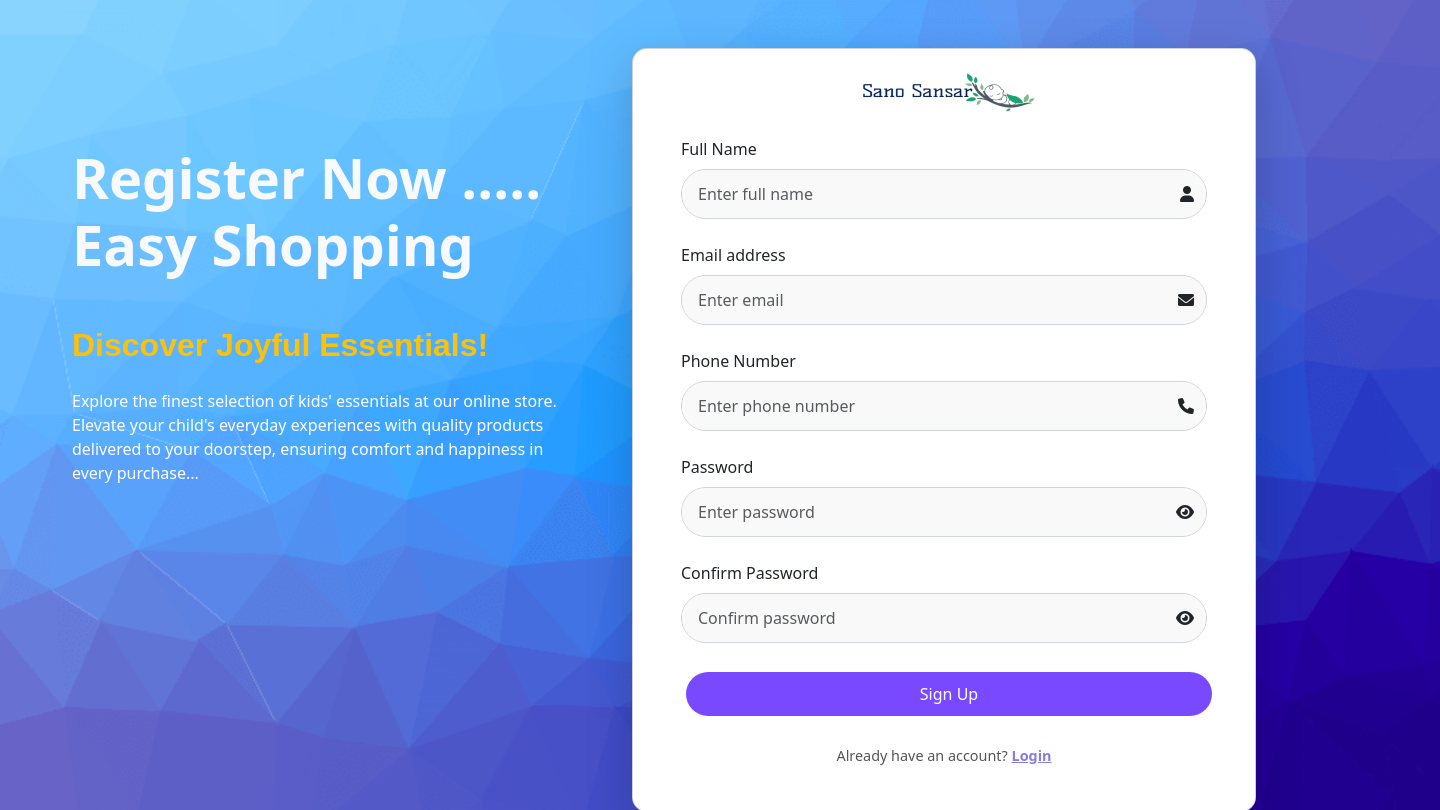
Test: RegisterPage Component Test › should show error when passwords do not match
Type "Test User" into the field with placeholder "Enter full name" at (926, 194), box [682, 170, 1169, 218]
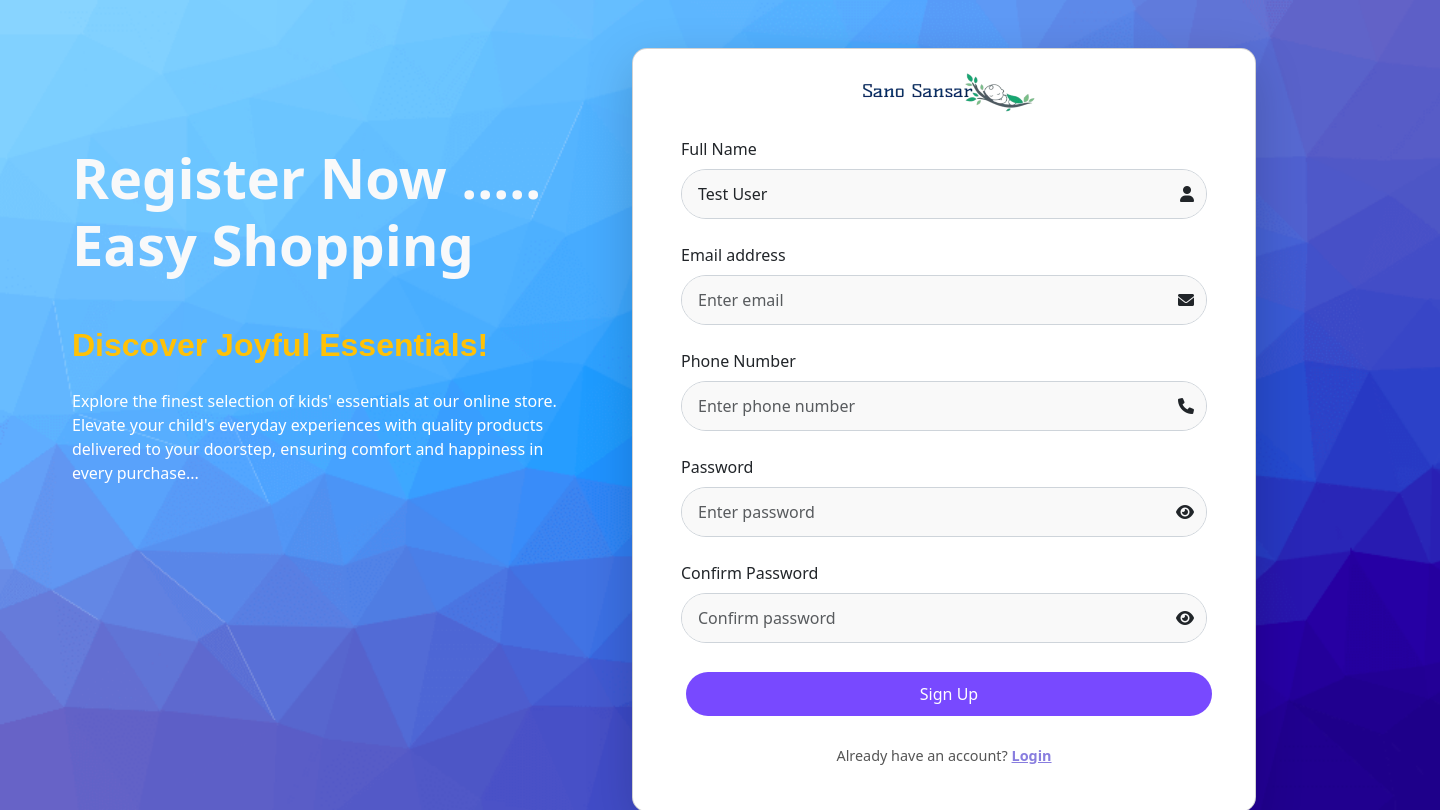
Type "test@gmail.com" into the field with placeholder "Enter email" at (924, 300), box [682, 276, 1167, 324]
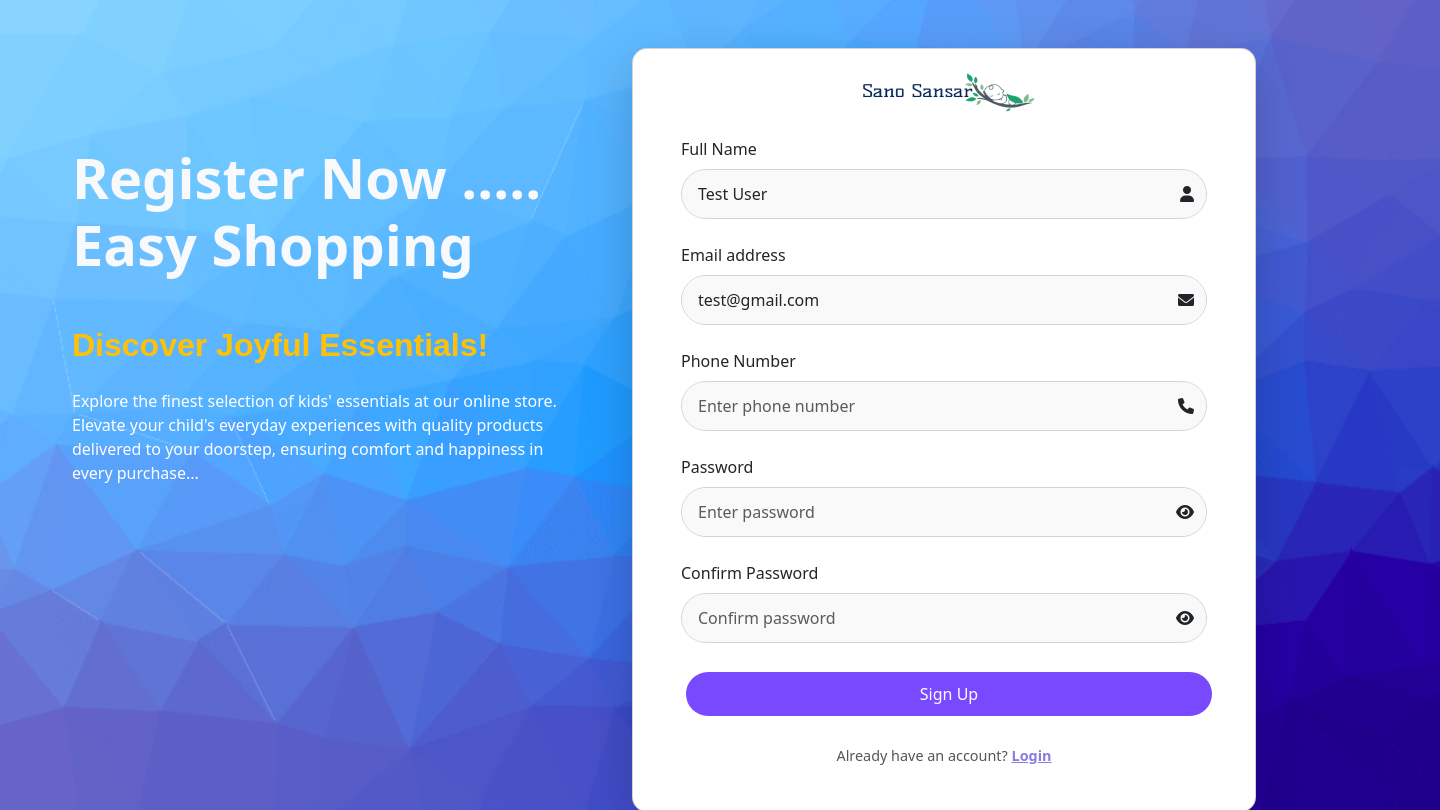
Type "1234567890" into the field with placeholder "Enter phone number" at (924, 406), box [682, 382, 1167, 430]
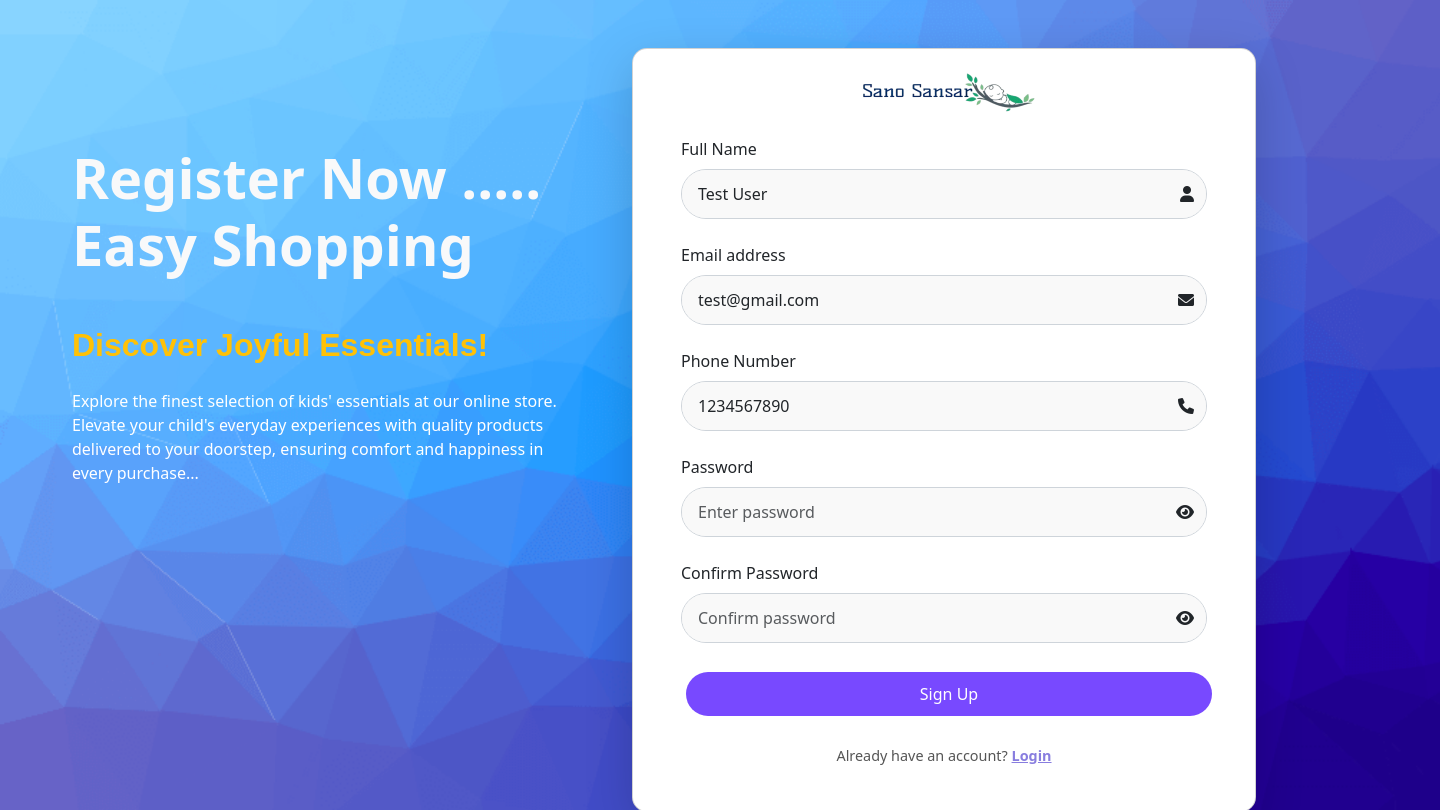
Type "Test@123" into the password field with placeholder "Enter password" at (924, 512), box [682, 488, 1165, 536]
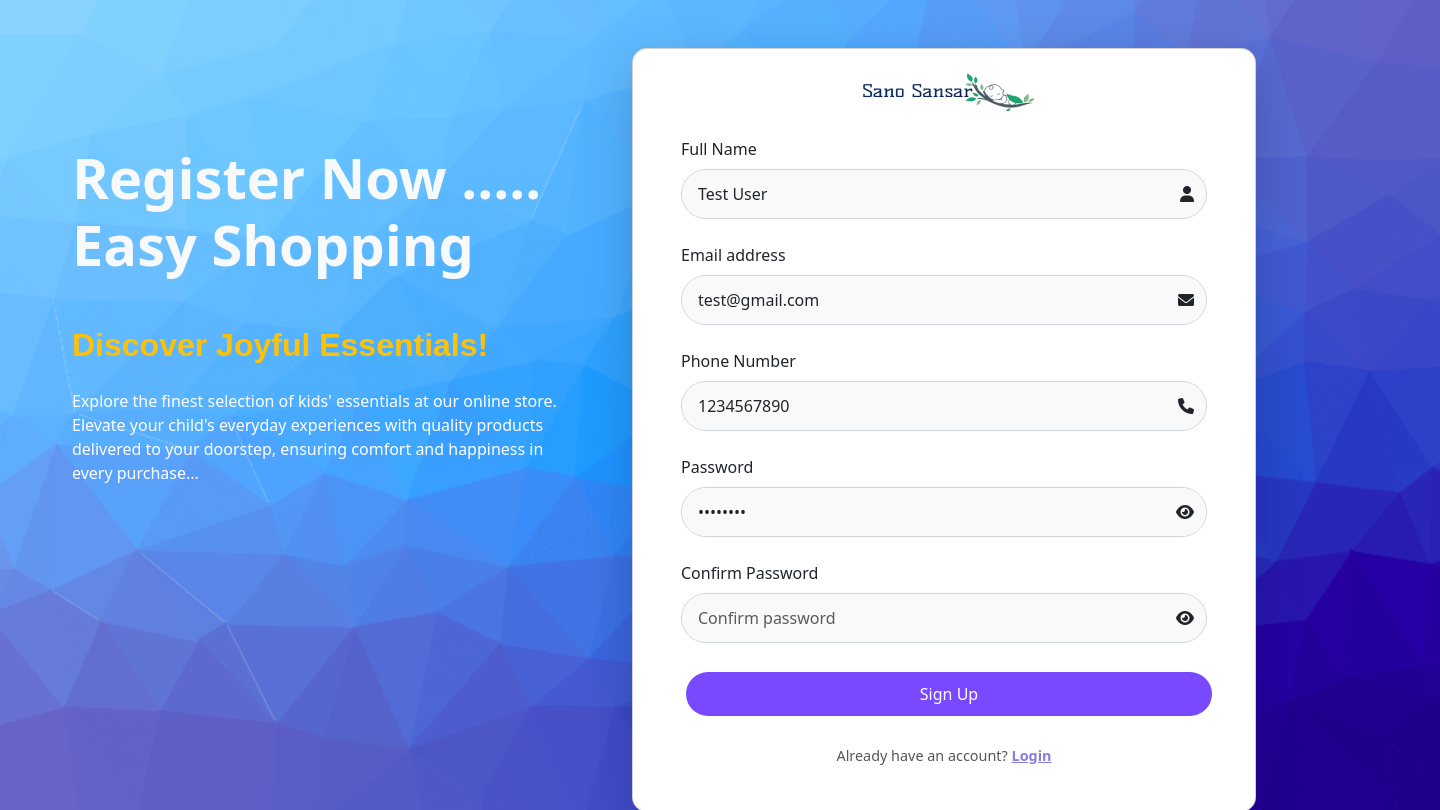
Type "Test@1234" into the password field with placeholder "Confirm Password" at (924, 618), box [682, 594, 1165, 642]
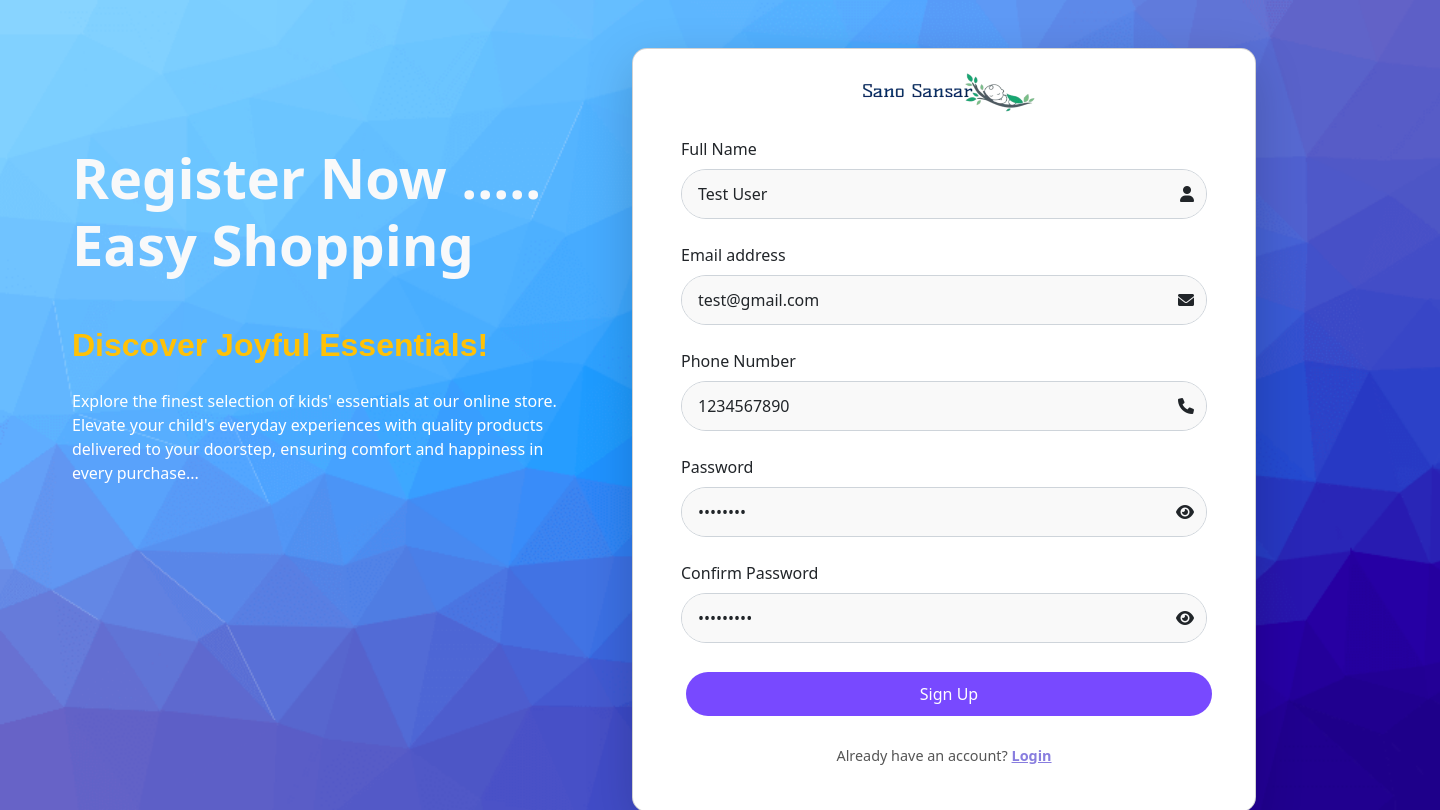
Click the button "Sign Up" at (949, 694), box [686, 672, 1212, 716]
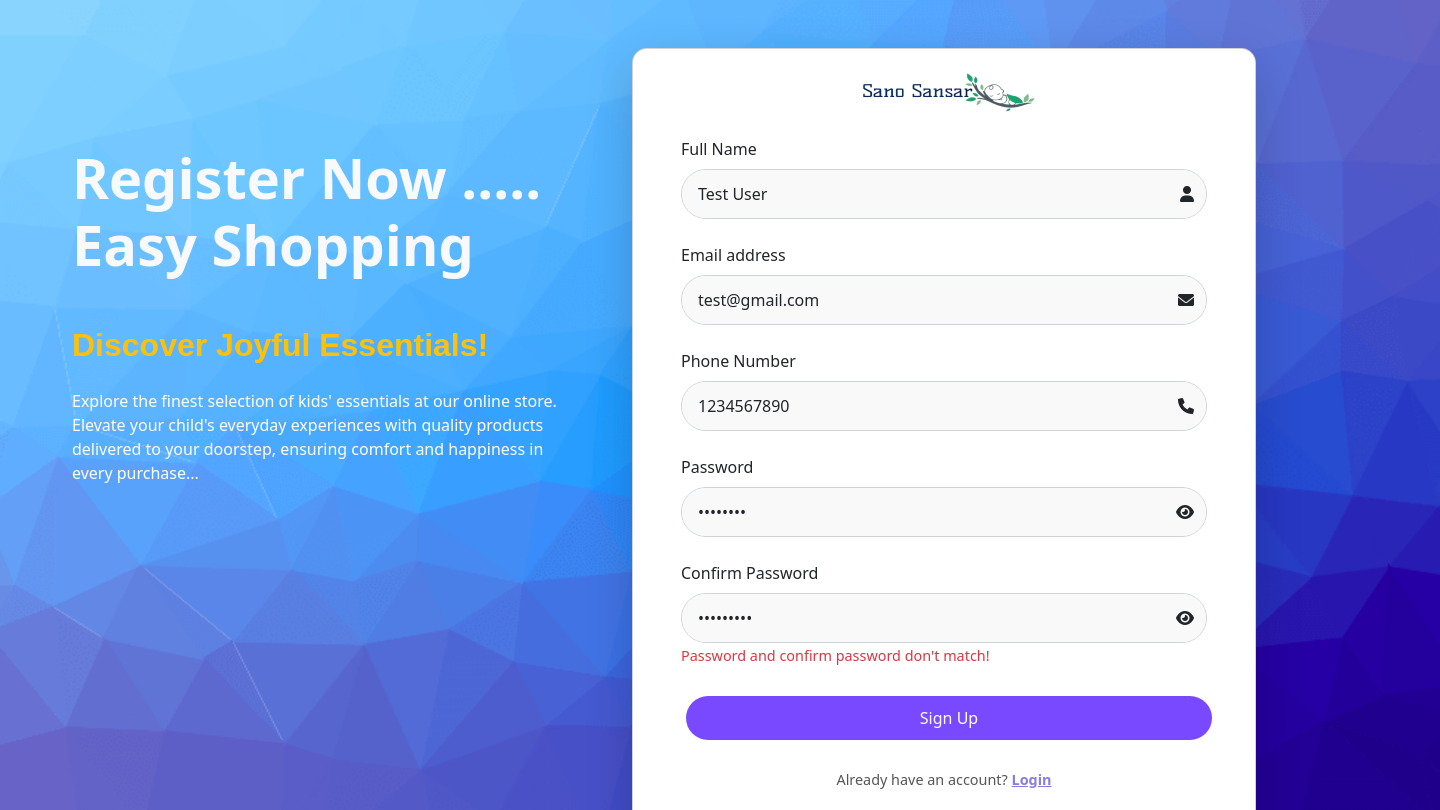
Check: the text "Password and confirm password don't match!" is shown, box [681, 646, 990, 665]
